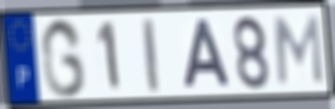1: (95, 19, 121, 93)
8: (232, 13, 271, 91)
A: (180, 17, 234, 90)
G: (39, 16, 88, 101)
I: (140, 15, 162, 95)
M: (272, 13, 325, 86)
